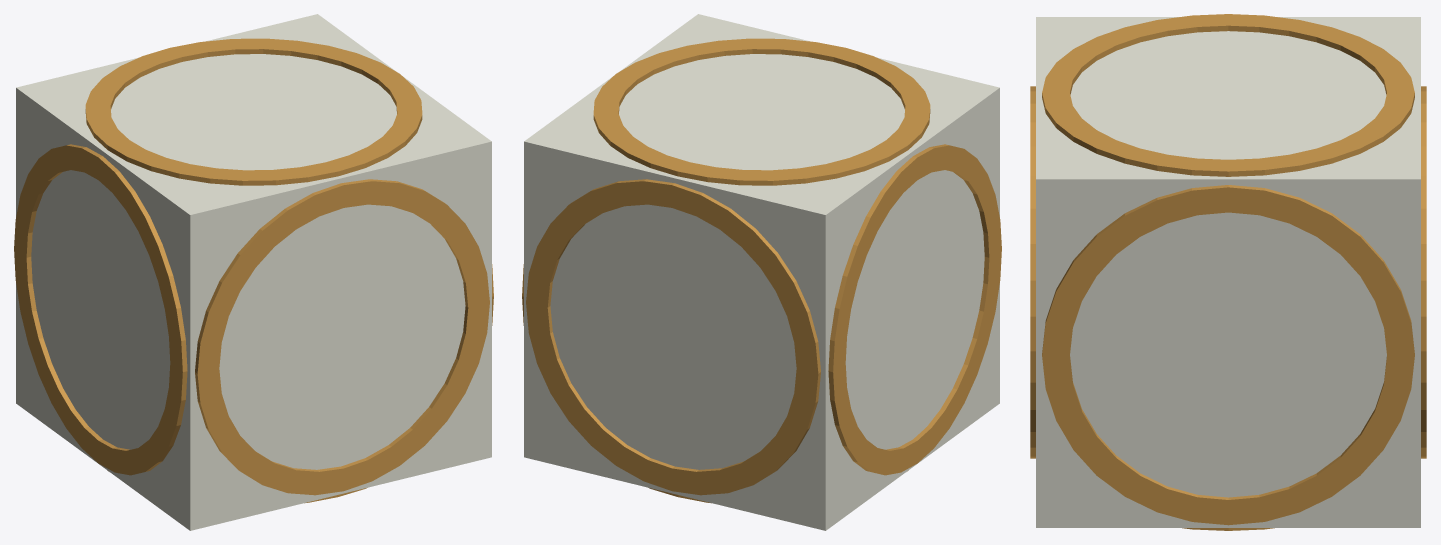
Rendered from venom.obj.
3 renders of one model, left to right at view 1: azimuth 30°, elevation 25°; view 2: azimuth 150°, elevation 25°; view 3: azimuth 270°, elevation 25°, orthographic. The views are drawn at different scales.
Size of the model in its own units: 1 by 1 by 1.
